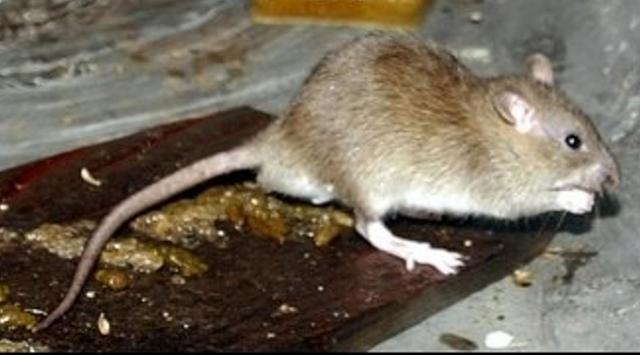rat: (70, 19, 628, 294)
